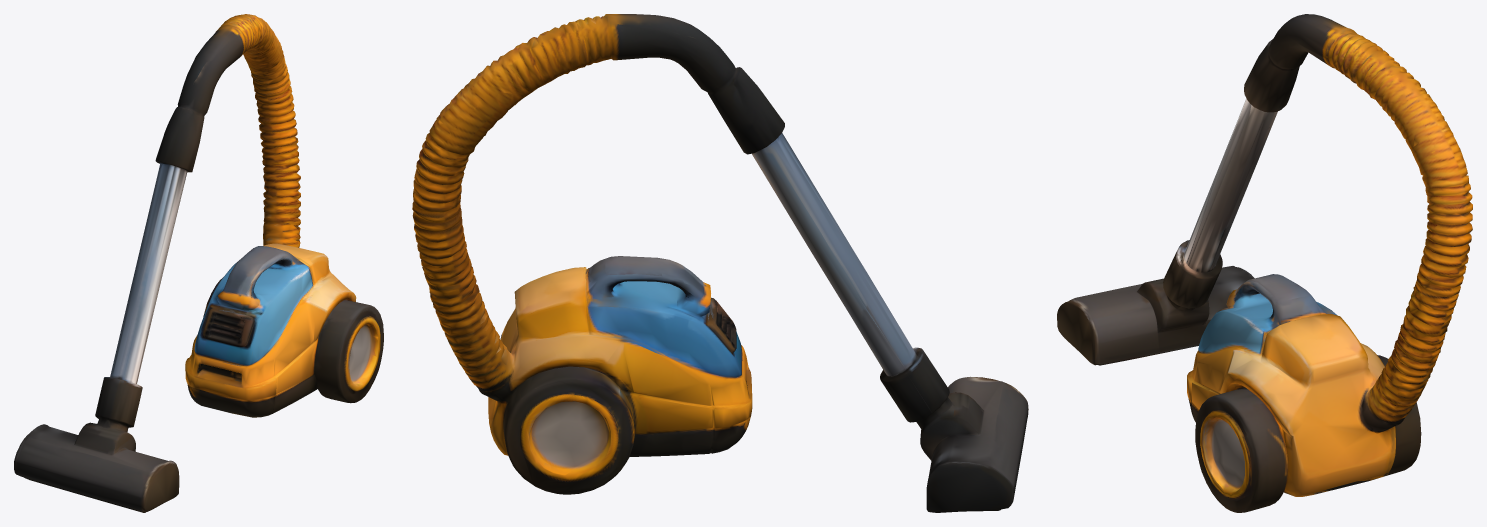
The model's file is hoover.fbx.
The picture shows the model from 3 angles, left to right: view 1: azimuth 30°, elevation 25°; view 2: azimuth 150°, elevation 25°; view 3: azimuth 270°, elevation 25°; orthographic projection. The views are drawn at different scales.
Visible parts, largest first — view 1: node_0; view 2: node_0; view 3: node_0.
Part boxes in pixels (box(x1,y1,x2,y2)): node_0: box(14, 14, 383, 512); node_0: box(412, 14, 1028, 512); node_0: box(1057, 14, 1472, 512).
Bounding box in the file's own units: 0.537 × 0.4811 × 0.4202.
1 material, 1 textured.
